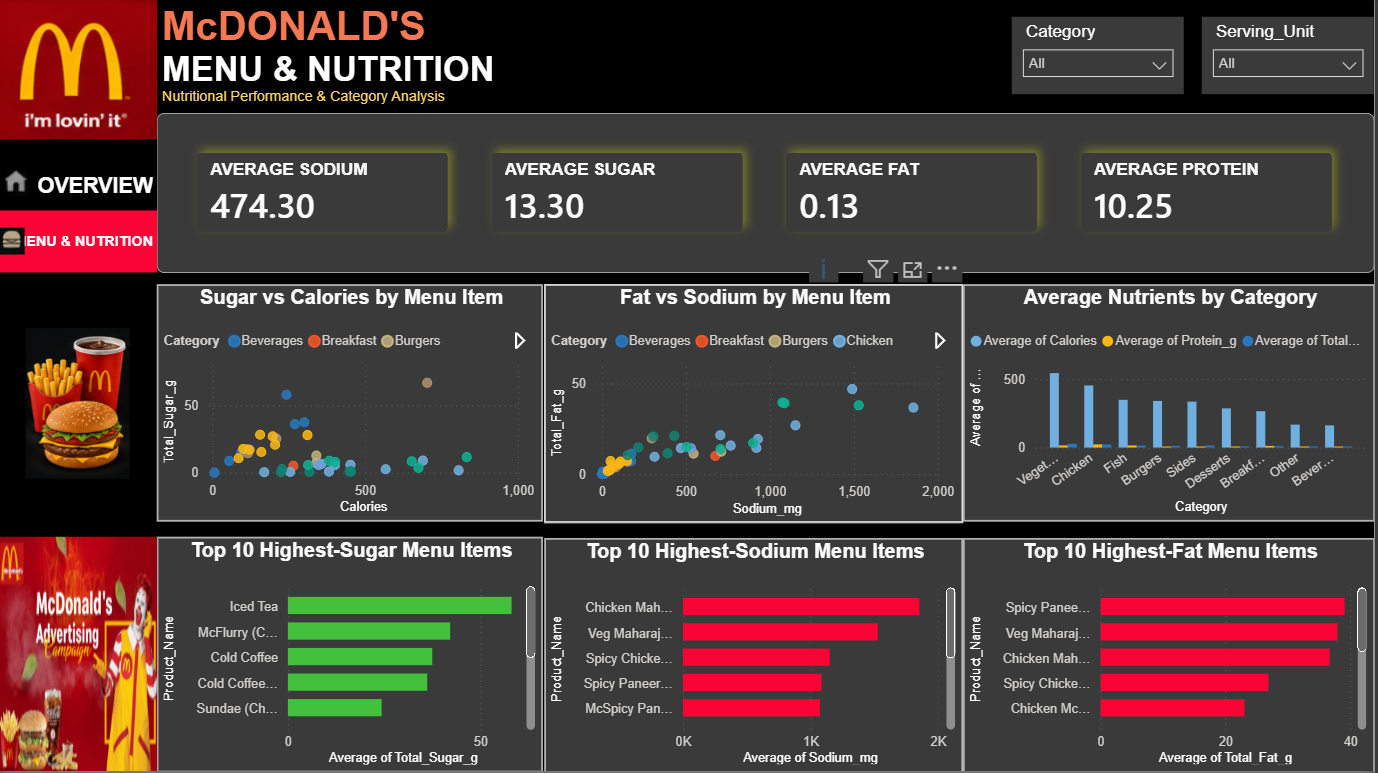

Layout of this report page (visuals, bound fields, positions):
{"tool":"powerbi","page":{"name":"MENU & NUTRITION","canvas":[1280,720],"ordinal":1},"visuals":[{"type":"textbox","box":[148.2,0,535.2,107],"z":0},{"type":"cardVisual","fields":{"Data":["Avg(McDonalds_Menu.Sodium_mg)","Avg(McDonalds_Menu.Total_Sugar_g)","Avg(McDonalds_Menu.Trans_Fat_g)","Avg(McDonalds_Menu.Protein_g)"]},"box":[147.7,107,1132.6,148.8],"z":1000},{"type":"scatterChart","title":"Sugar vs Calories by Menu Item","fields":{"X":["McDonalds_Menu.Calories"],"Y":["McDonalds_Menu.Total_Sugar_g"],"Series":["McDonalds_Menu.Category"]},"box":[148.2,266.2,359.5,220.9],"z":2000},{"type":"scatterChart","title":"Fat vs Sodium by Menu Item","fields":{"X":["McDonalds_Menu.Sodium_mg"],"Y":["McDonalds_Menu.Total_Fat_g"],"Series":["McDonalds_Menu.Category"]},"box":[507.7,266.2,389.7,222.3],"z":3000},{"type":"clusteredColumnChart","title":"Average Nutrients by Category","fields":{"Category":["McDonalds_Menu.Category"],"Y":["Avg(McDonalds_Menu.Calories)","Avg(McDonalds_Menu.Protein_g)","Avg(McDonalds_Menu.Total_Fat_g)"]},"box":[897.4,266.2,382.8,220.9],"z":4000},{"type":"clusteredBarChart","title":"Top 10 Highest-Sugar Menu Items","fields":{"Category":["McDonalds_Menu.Product_Name"],"Y":["Avg(McDonalds_Menu.Total_Sugar_g)"]},"box":[148.2,500.9,359.5,219.6],"z":5000},{"type":"clusteredBarChart","title":"Top 10 Highest-Sodium Menu Items","fields":{"Category":["McDonalds_Menu.Product_Name"],"Y":["Avg(McDonalds_Menu.Sodium_mg)"]},"box":[507.7,502.2,389.7,218.2],"z":6000},{"type":"clusteredBarChart","title":"Top 10 Highest-Fat Menu Items","fields":{"Category":["McDonalds_Menu.Product_Name"],"Y":["Avg(McDonalds_Menu.Total_Fat_g)"]},"box":[897.4,502.2,382.8,218.2],"z":7000},{"type":"slicer","fields":{"Values":["McDonalds_Menu.Category"]},"box":[942.7,17.8,160,72],"z":8000},{"type":"slicer","fields":{"Values":["McDonalds_Menu.Serving_Unit"]},"box":[1119.7,17.8,160,72],"z":9000},{"type":"image","box":[0,0,148.2,131.7],"z":10000},{"type":"actionButton","box":[0,131.7,148.2,82.3],"z":11000},{"type":"actionButton","box":[0,197.6,148.2,57.6],"z":12000},{"type":"actionButton","box":[0,266.2,148.2,222.3],"z":13000},{"type":"image","box":[0,500.9,148.2,220.9],"z":14000}]}

Visuals, with their boxes in screenshot pixels (x1, y1, x2, y2), scaled from the page's 1280x720 canvas onto the 1378x773 screenshot:
textbox: rect(160, 0, 736, 115)
cardVisual - Avg(McDonalds_Menu.Sodium_mg) x Avg(McDonalds_Menu.Total_Sugar_g): rect(159, 115, 1377, 275)
"Sugar vs Calories by Menu Item" scatterChart: rect(160, 286, 547, 523)
"Fat vs Sodium by Menu Item" scatterChart: rect(547, 286, 966, 524)
"Average Nutrients by Category" clusteredColumnChart: rect(966, 286, 1377, 523)
"Top 10 Highest-Sugar Menu Items" clusteredBarChart: rect(160, 538, 547, 772)
"Top 10 Highest-Sodium Menu Items" clusteredBarChart: rect(547, 539, 966, 772)
"Top 10 Highest-Fat Menu Items" clusteredBarChart: rect(966, 539, 1377, 772)
slicer - McDonalds_Menu.Category: rect(1015, 19, 1187, 96)
slicer - McDonalds_Menu.Serving_Unit: rect(1205, 19, 1377, 96)
image: rect(0, 0, 160, 141)
actionButton: rect(0, 141, 160, 230)
actionButton: rect(0, 212, 160, 274)
actionButton: rect(0, 286, 160, 524)
image: rect(0, 538, 160, 772)
